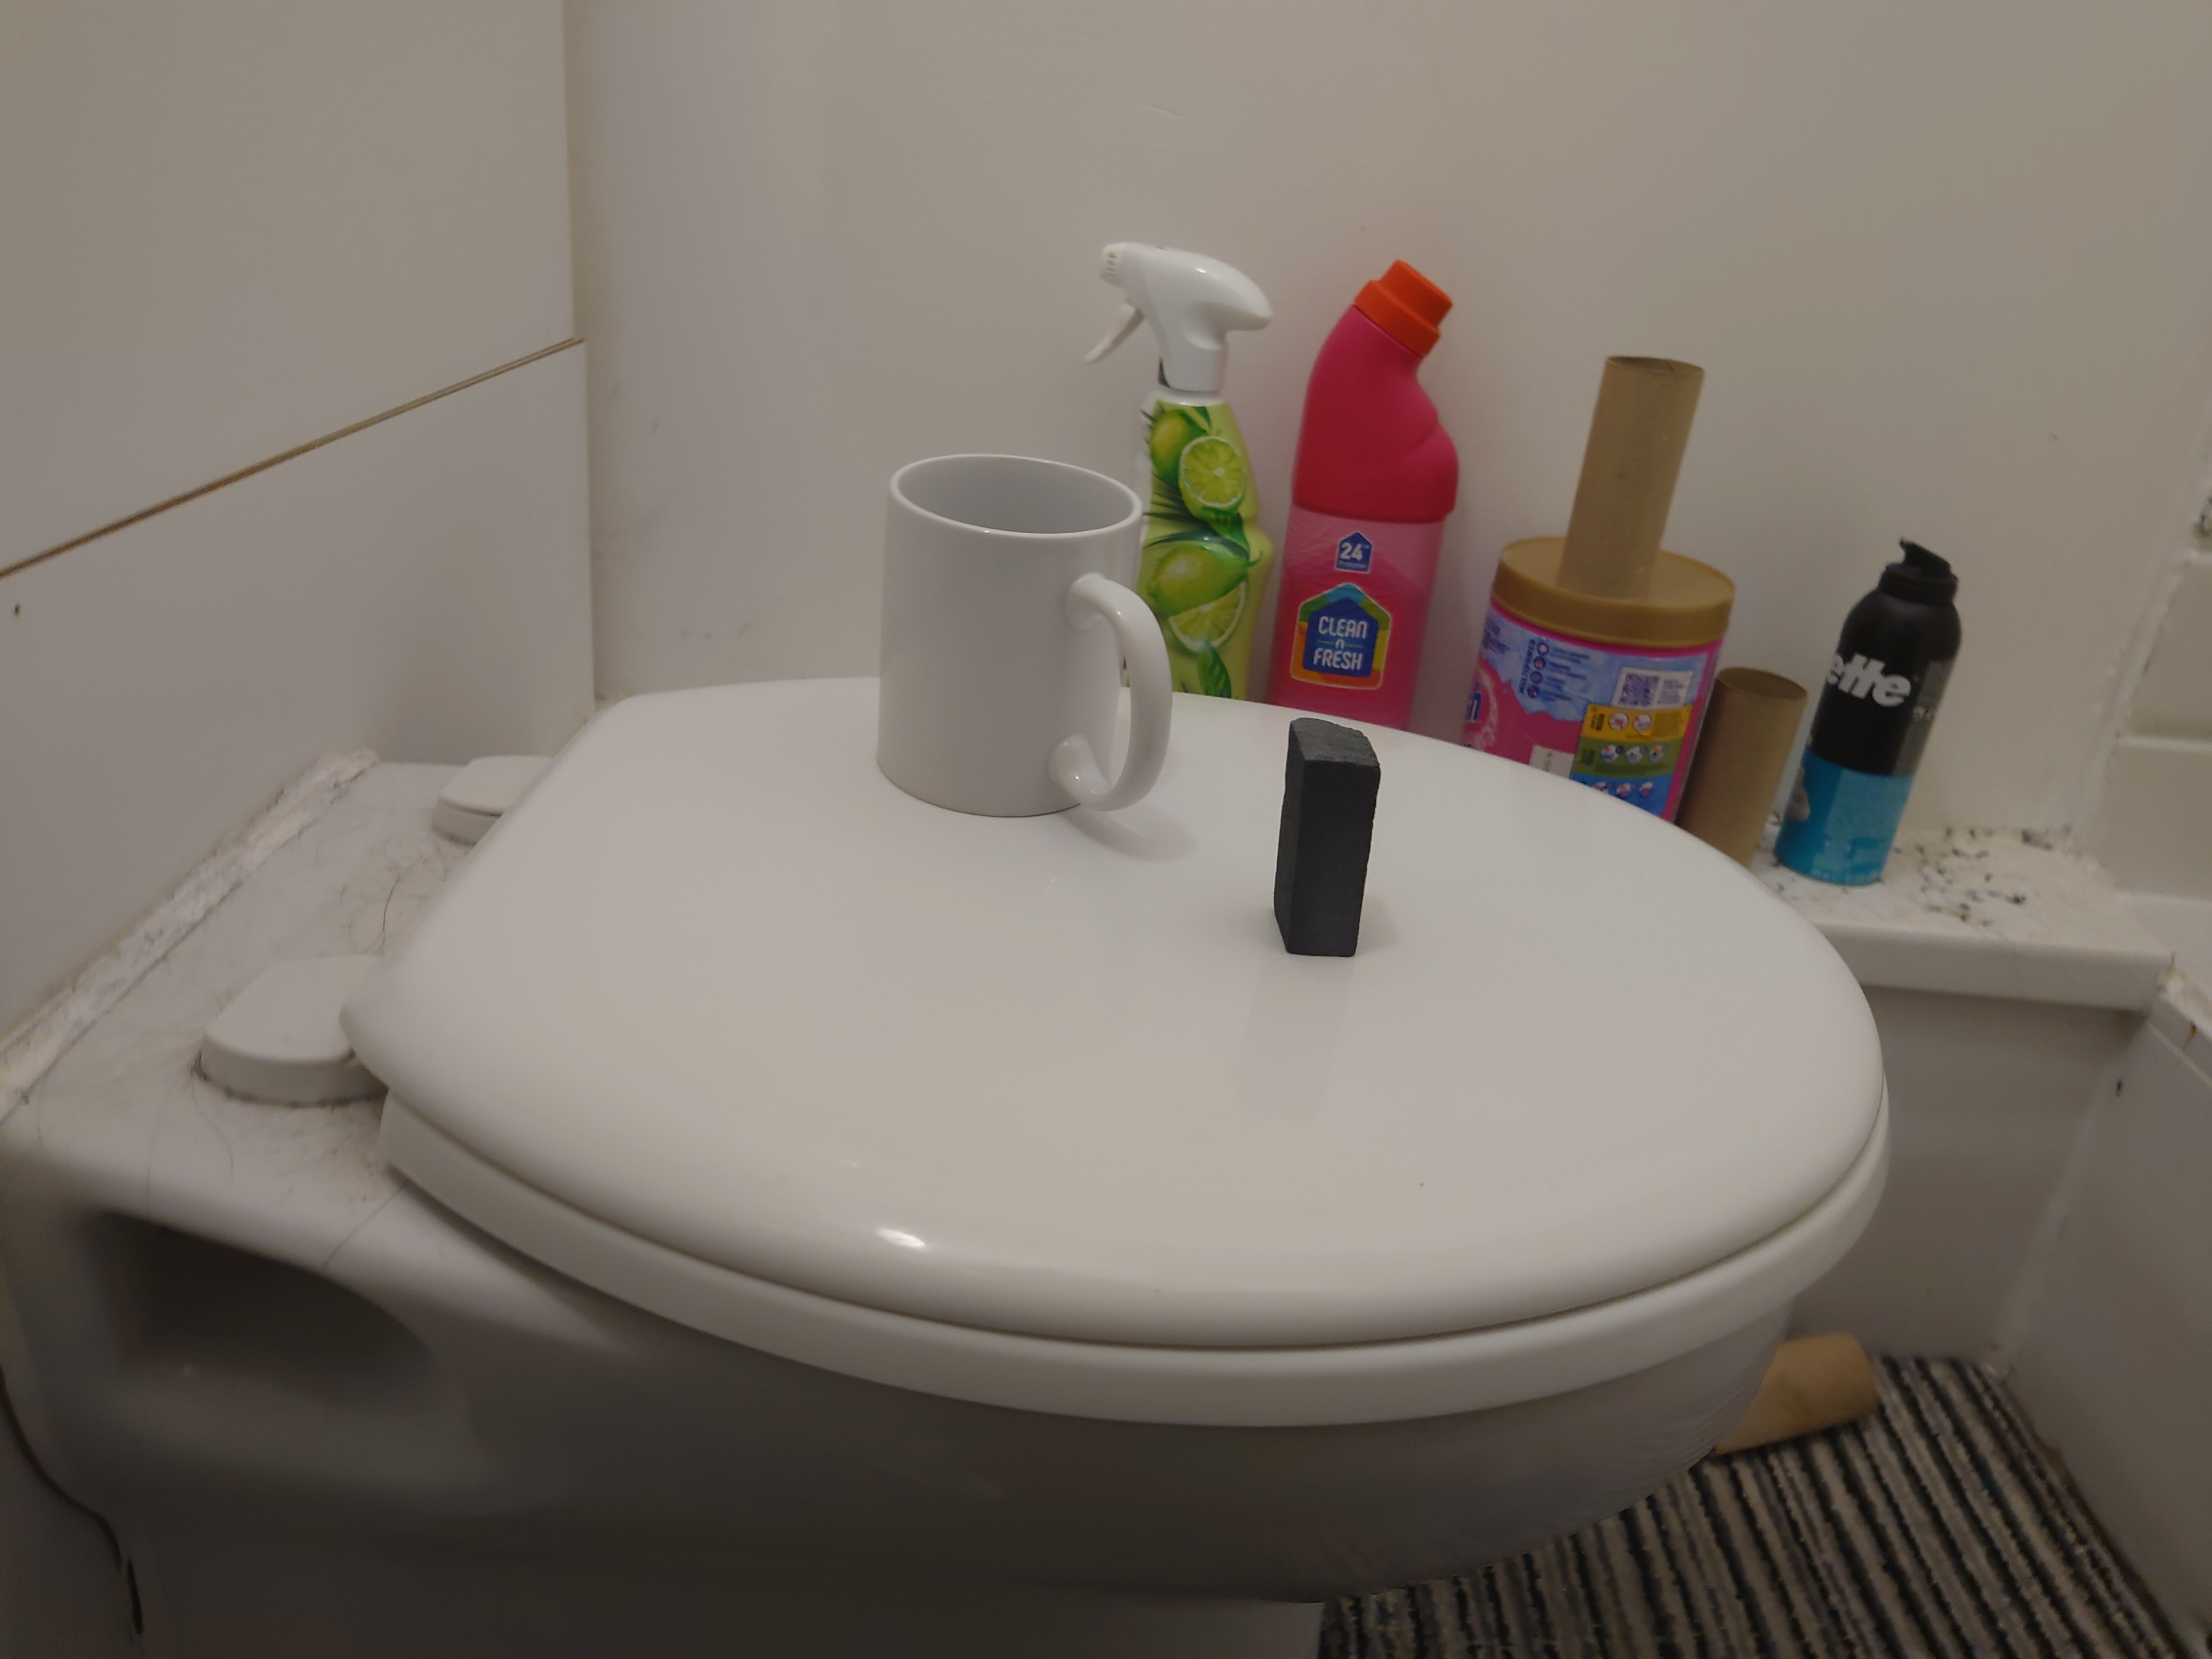cup: (869, 451, 1174, 816)
target: (1275, 718, 1378, 958)
